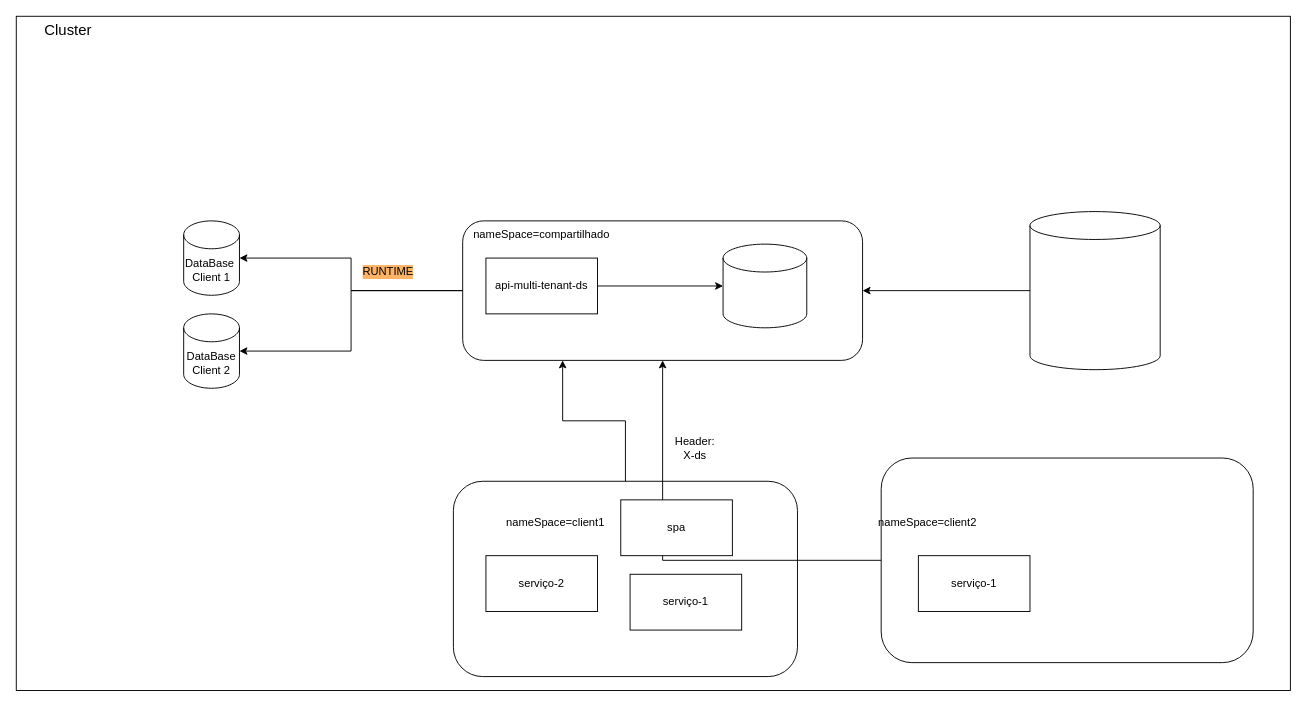
This 1307x707 diagram has some shape labels left out. The centre of each missing label's shape, as x and y in pixels:
redis: point 764,285
VAULT KVs client1 client2 client3 ......: point 1094,290
